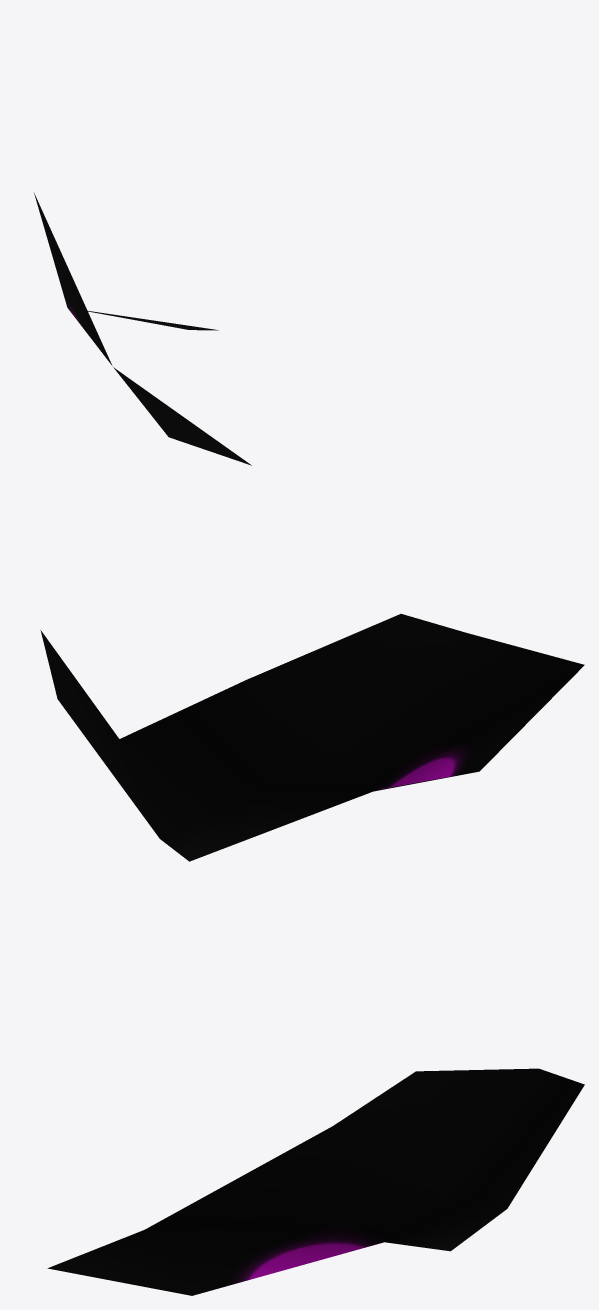
The model's file is Hybrid.glb.
The picture shows the model from 3 angles, top to bottom: view 1: azimuth 30°, elevation 25°; view 2: azimuth 150°, elevation 25°; view 3: azimuth 270°, elevation 25°; orthographic projection. The views are drawn at different scales.
Parts seen in each view (by area): view 1: face.part_model_face-Mesh[0]; view 2: face.part_model_face-Mesh[0]; view 3: face.part_model_face-Mesh[0].
Part boxes in pixels (<box>): face.part_model_face-Mesh[0]: <box>34,193,251,465</box>; face.part_model_face-Mesh[0]: <box>40,614,584,861</box>; face.part_model_face-Mesh[0]: <box>47,1068,584,1295</box>.
Size of the model in its own units: 0.3612 by 0.2339 by 0.3942.
1 material, 1 textured.
